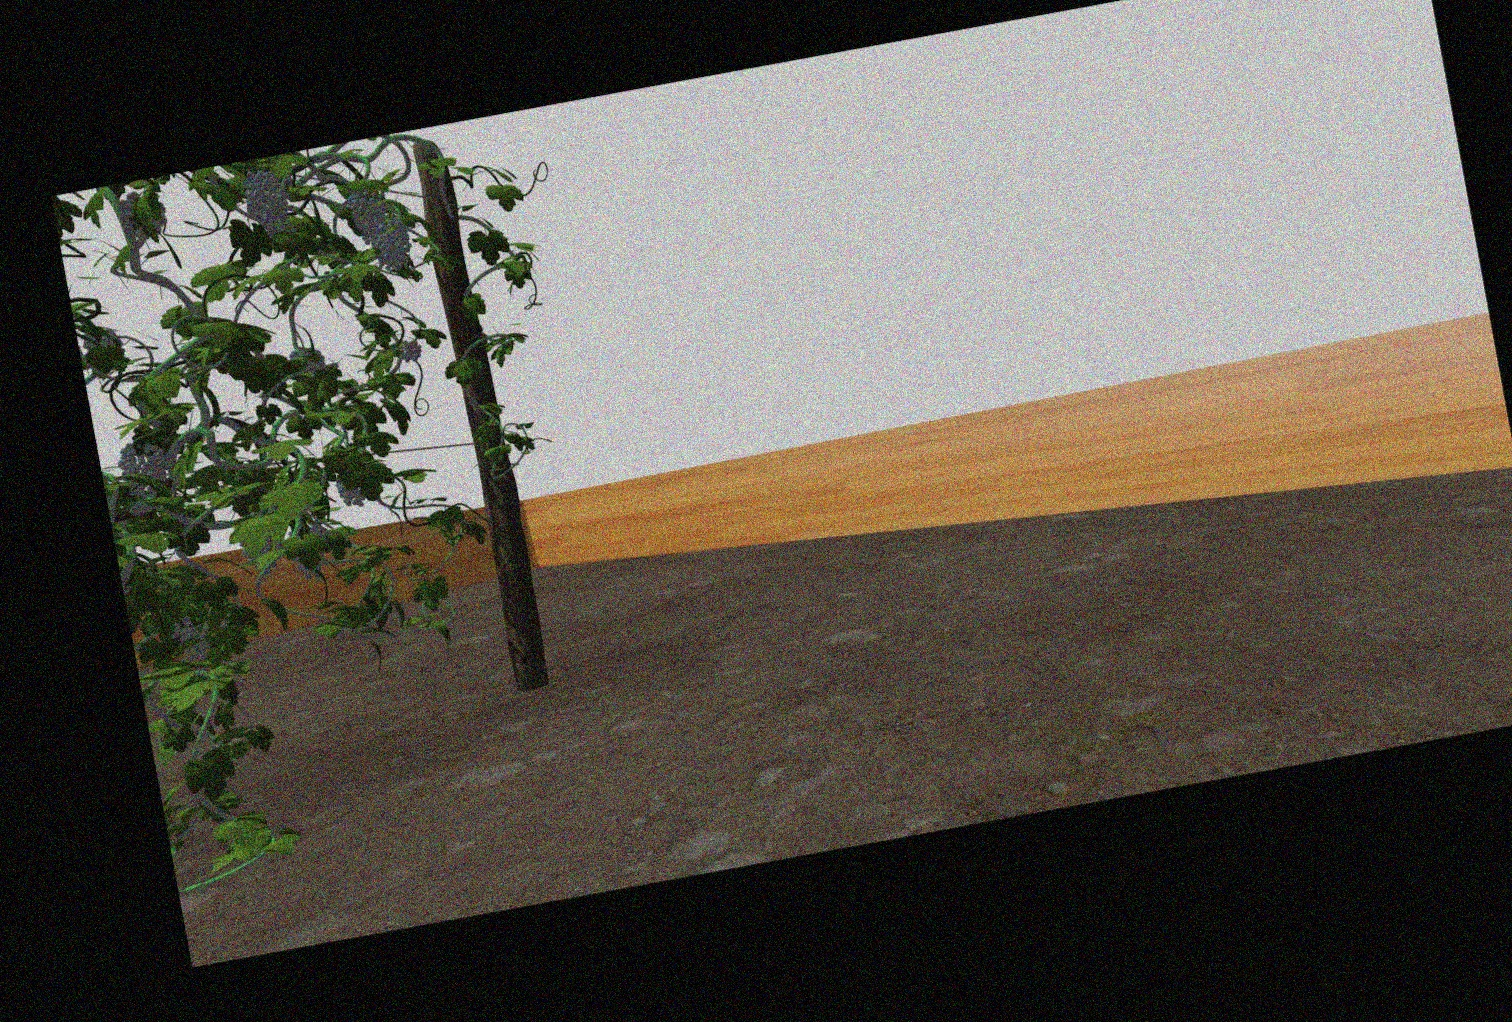grape: (244, 167, 288, 238), (117, 440, 171, 498), (377, 219, 413, 271), (351, 190, 387, 243), (398, 338, 423, 365)
